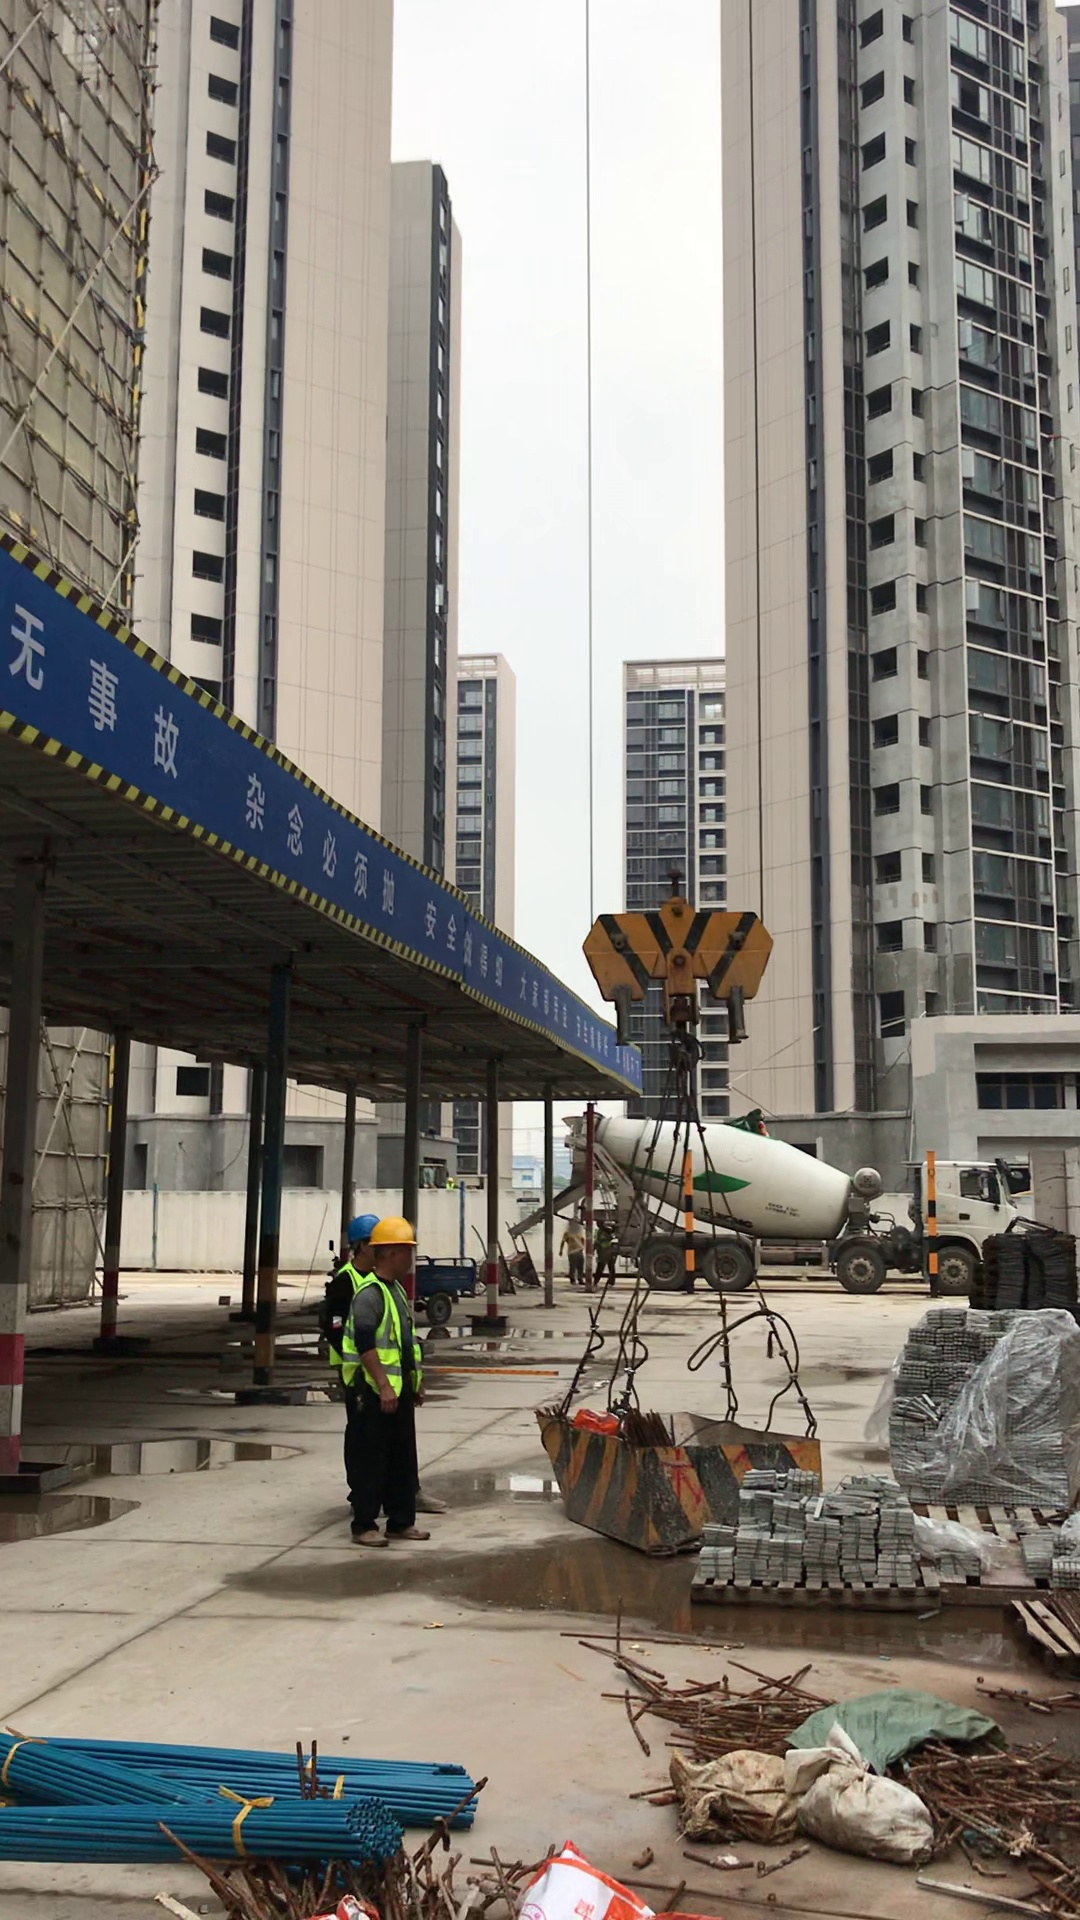handcart: (466, 1225, 549, 1294)
helmet: (364, 1206, 423, 1259), (325, 1193, 371, 1234)
hook: (567, 872, 775, 1020)
person: (343, 1227, 439, 1544), (318, 1202, 377, 1384)
slogan: (22, 615, 643, 1102)
vest: (353, 1277, 423, 1393)
